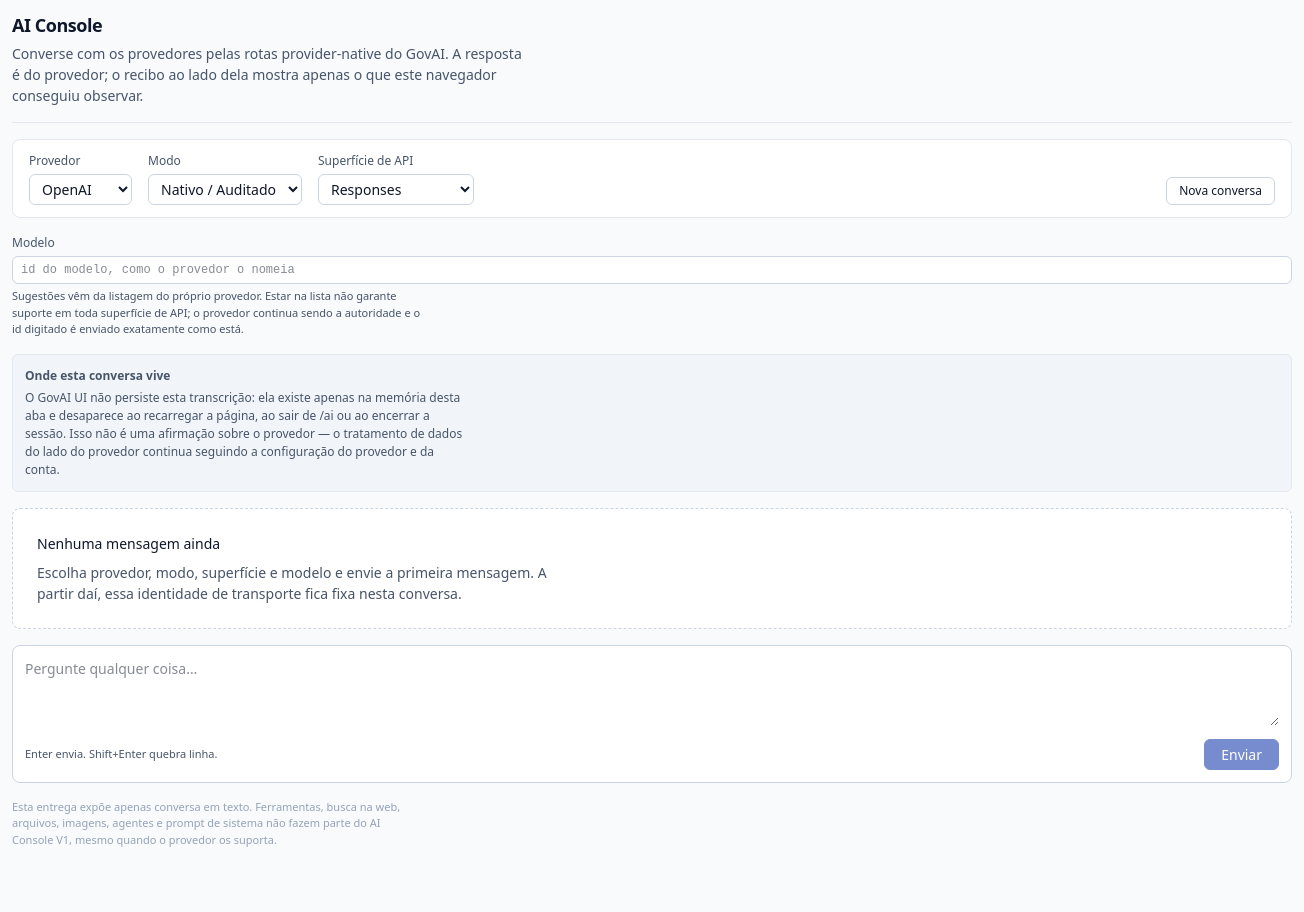
★ under <StrictMode>, one Send is still exactly one provider POST › aborts an in-flight stream when the console unmounts
Type "a-model" into the field with test id "model-input".
click(652, 270); type("a-model")  # box [12,256,1292,284]
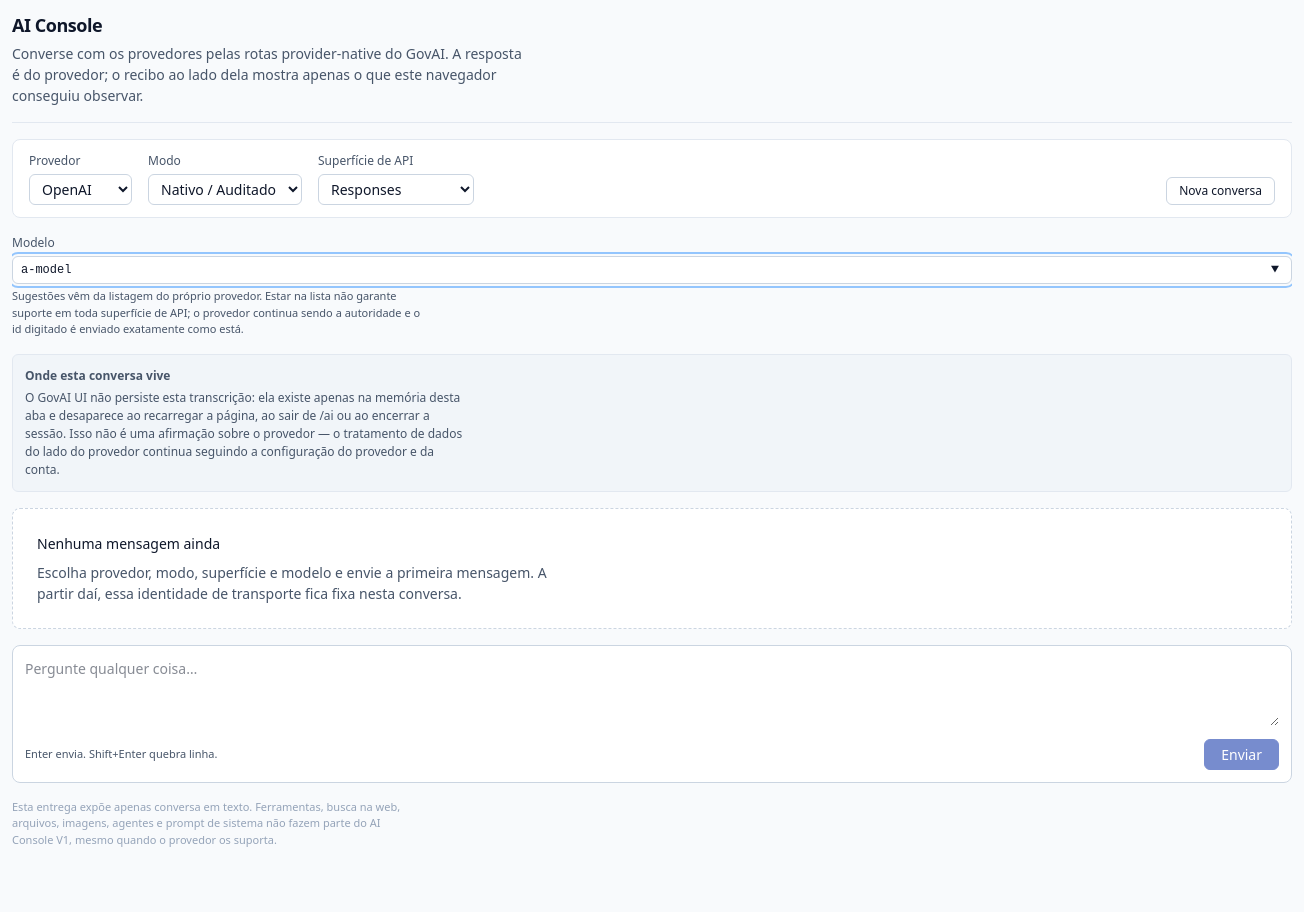
Type "a question" into the text box with test id "composer-input".
click(652, 692); type("a question")  # box [25,658,1279,726]
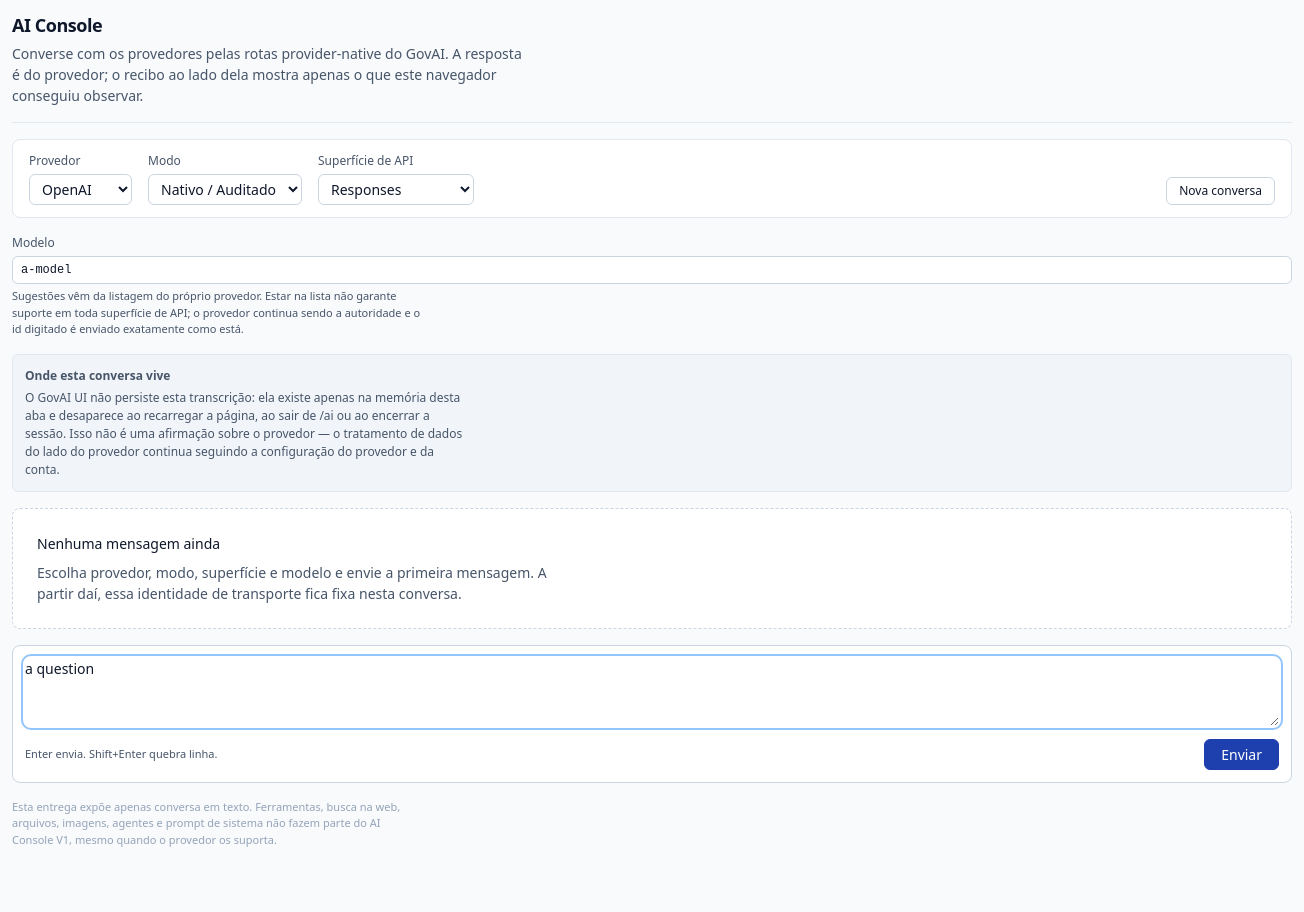
Click the button with test id "composer-send".
click(1242, 754)  # box [1204,739,1279,770]
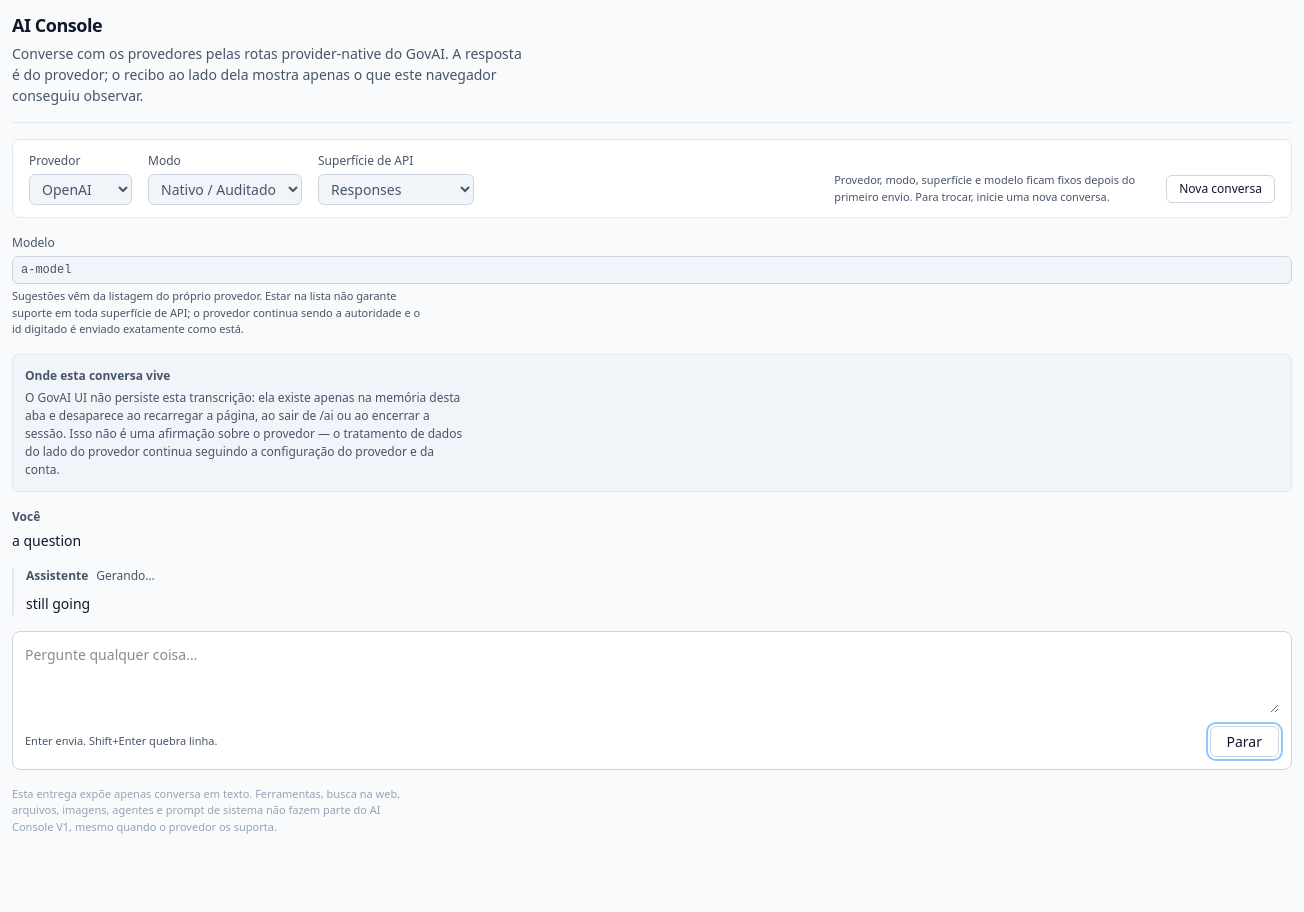
expect the text "still going" is shown: met, box [26,594,90,612]
